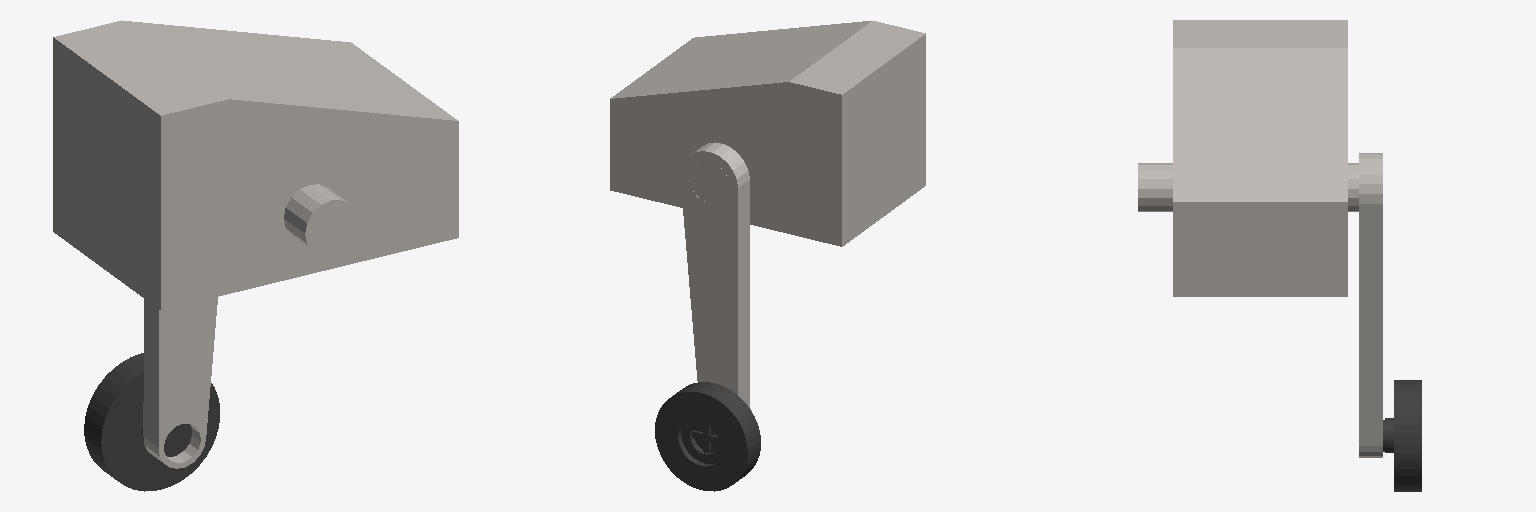
The robot description file, URDF, robot "car_urdf":
<?xml version="1.0" encoding="utf-8"?>
<!-- This URDF was automatically created by SolidWorks to URDF Exporter! Originally created by Stephen Brawner (brawner@gmail.com) 
     Commit Version: 1.6.0-4-g7f85cfe  Build Version: 1.6.7995.38578
     For more information, please see http://wiki.ros.org/sw_urdf_exporter -->
<robot
  name="car_urdf">
  <link
    name="base_link">
    <inertial>
      <origin
        xyz="-0.011138 -0.0175 0.0016979"
        rpy="0 0 0" />
      <mass
        value="0.16794" />
      <inertia
        ixx="1.6308E-05"
        ixy="6.6934E-22"
        ixz="2.9248E-06"
        iyy="2.8107E-05"
        iyz="-1.1106E-22"
        izz="3.0344E-05" />
    </inertial>
    <visual>
      <origin
        xyz="0 0 0"
        rpy="0 0 0" />
      <geometry>
        <mesh
          filename="package://car_urdf/meshes/base_link.STL" />
      </geometry>
      <material
        name="">
        <color
          rgba="0.77647 0.75686 0.73725 1" />
      </material>
    </visual>
    <collision>
      <origin
        xyz="0 0 0"
        rpy="0 0 0" />
      <geometry>
        <mesh
          filename="package://car_urdf/meshes/base_link.STL" />
      </geometry>
    </collision>
  </link>
  <link
    name="left_leg">
    <inertial>
      <origin
        xyz="-0.00175 -0.011065 0.018651"
        rpy="0 0 0" />
      <mass
        value="0.0087651" />
      <inertia
        ixx="1.2889E-06"
        ixy="-1.1577E-24"
        ixz="-1.8273E-23"
        iyy="1.2326E-06"
        iyz="1.0571E-07"
        izz="7.4154E-08" />
    </inertial>
    <visual>
      <origin
        xyz="0 0 0"
        rpy="0 0 0" />
      <geometry>
        <mesh
          filename="package://car_urdf/meshes/left_leg.STL" />
      </geometry>
      <material
        name="">
        <color
          rgba="0.77647 0.75686 0.73725 1" />
      </material>
    </visual>
    <collision>
      <origin
        xyz="0 0 0"
        rpy="0 0 0" />
      <geometry>
        <mesh
          filename="package://car_urdf/meshes/left_leg.STL" />
      </geometry>
    </collision>
  </link>
  <joint
    name="left_hip_joint"
    type="revolute">
    <origin
      xyz="-0.00939750864531261 0 -0.0010809064290457"
      rpy="3.09646333068238 0 1.5707963267949" />
    <parent
      link="base_link" />
    <child
      link="left_leg" />
    <axis
      xyz="1 0 0" />
    <limit
      lower="-3.14"
      upper="3.14"
      effort="10"
      velocity="50" />
  </joint>
  <link
    name="left_wheel">
    <inertial>
      <origin
        xyz="3.4694E-18 0 -0.0025572"
        rpy="0 0 0" />
      <mass
        value="0.0022065" />
      <inertia
        ixx="2.2468E-08"
        ixy="2.068E-25"
        ixz="1.1975E-25"
        iyy="2.2468E-08"
        iyz="-1.6142E-26"
        izz="4.0326E-08" />
    </inertial>
    <visual>
      <origin
        xyz="0 0 0"
        rpy="0 0 0" />
      <geometry>
        <mesh
          filename="package://car_urdf/meshes/left_wheel.STL" />
      </geometry>
      <material
        name="">
        <color
          rgba="0.29804 0.29804 0.29804 1" />
      </material>
    </visual>
    <collision>
      <origin
        xyz="0 0 0"
        rpy="0 0 0" />
      <geometry>
        <mesh
          filename="package://car_urdf/meshes/left_wheel.STL" />
      </geometry>
    </collision>
  </link>
  <joint
    name="left_wheel_joint"
    type="continuous">
    <origin
      xyz="-0.0015 -0.00360544580779829 0.0398371781195284"
      rpy="-1.5707963267949 -0.0838788308151843 1.5707963267949" />
    <parent
      link="left_leg" />
    <child
      link="left_wheel" />
    <axis
      xyz="0 0 1" />
    <limit
      effort="10"
      velocity="100" />
  </joint>
  <link
    name="right_leg">
    <inertial>
      <origin
        xyz="-0.00175 -0.0016286 0.017995"
        rpy="0 0 0" />
      <mass
        value="0.0087651" />
      <inertia
        ixx="1.2889E-06"
        ixy="-1.4707E-24"
        ixz="-9.1737E-24"
        iyy="1.2326E-06"
        iyz="1.0571E-07"
        izz="7.4154E-08" />
    </inertial>
    <visual>
      <origin
        xyz="0 0 0"
        rpy="0 0 0" />
      <geometry>
        <mesh
          filename="package://car_urdf/meshes/right_leg.STL" />
      </geometry>
      <material
        name="">
        <color
          rgba="0.77647 0.75686 0.73725 1" />
      </material>
    </visual>
    <collision>
      <origin
        xyz="0 0 0"
        rpy="0 0 0" />
      <geometry>
        <mesh
          filename="package://car_urdf/meshes/right_leg.STL" />
      </geometry>
    </collision>
  </link>
  <joint
    name="right_hip_joint"
    type="revolute">
    <origin
      xyz="-0.00939750864531261 -0.0315000000000001 -0.0010809064290457"
      rpy="3.09646333068238 0 1.5707963267949" />
    <parent
      link="base_link" />
    <child
      link="right_leg" />
    <axis
      xyz="1 0 0" />
    <limit
      lower="-3.14"
      upper="3.14"
      effort="10"
      velocity="50" />
  </joint>
  <link
    name="right_wheel">
    <inertial>
      <origin
        xyz="0 0 -0.0040572"
        rpy="0 0 0" />
      <mass
        value="0.0022065" />
      <inertia
        ixx="2.2468E-08"
        ixy="0"
        ixz="6.9605E-26"
        iyy="2.2468E-08"
        iyz="-2.2147E-26"
        izz="4.0326E-08" />
    </inertial>
    <visual>
      <origin
        xyz="0 0 0"
        rpy="0 0 0" />
      <geometry>
        <mesh
          filename="package://car_urdf/meshes/right_wheel.STL" />
      </geometry>
      <material
        name="">
        <color
          rgba="0.29804 0.29804 0.29804 1" />
      </material>
    </visual>
    <collision>
      <origin
        xyz="0 0 0"
        rpy="0 0 0" />
      <geometry>
        <mesh
          filename="package://car_urdf/meshes/right_wheel.STL" />
      </geometry>
    </collision>
  </link>
  <joint
    name="right_wheel_joint"
    type="continuous">
    <origin
      xyz="-0.002 -0.00360544580779829 0.0398371781195284"
      rpy="-1.5707963267949 0.00637981499963452 -1.5707963267949" />
    <parent
      link="right_leg" />
    <child
      link="right_wheel" />
    <axis
      xyz="0 0 1" />
    <limit
      effort="10"
      velocity="100" />
  </joint>
</robot>

--- Facts derived from the render (not from the file) ---
3 views of the same robot in one strip: view 1: azimuth 30°, elevation 25°; view 2: azimuth 150°, elevation 25°; view 3: azimuth 270°, elevation 25° (orthographic).
Robot: car_urdf — 5 links, 4 joints (2 revolute, 2 continuous); root link base_link; default pose: all joints at 0.
Links seen in each view (by area): view 1: base_link, left_leg, left_wheel; view 2: base_link, left_leg, left_wheel; view 3: base_link, left_leg, left_wheel.
Boxes of the visible links, x1,y1,x2,y2 form: base_link: [53, 20, 458, 310]; left_leg: [143, 297, 217, 468]; left_wheel: [84, 353, 219, 491]; base_link: [610, 21, 925, 246]; left_leg: [680, 142, 749, 407]; left_wheel: [655, 382, 760, 491]; base_link: [1138, 20, 1358, 296]; left_leg: [1359, 153, 1382, 457]; left_wheel: [1383, 380, 1421, 491].
Size in the robot's own frame: 0.04 by 0.0405 by 0.065 metres.
3 mesh visuals loaded from 5 distinct referenced files (3 binary STL); not drawn: 2 (reference not matched to a file when rendering).
